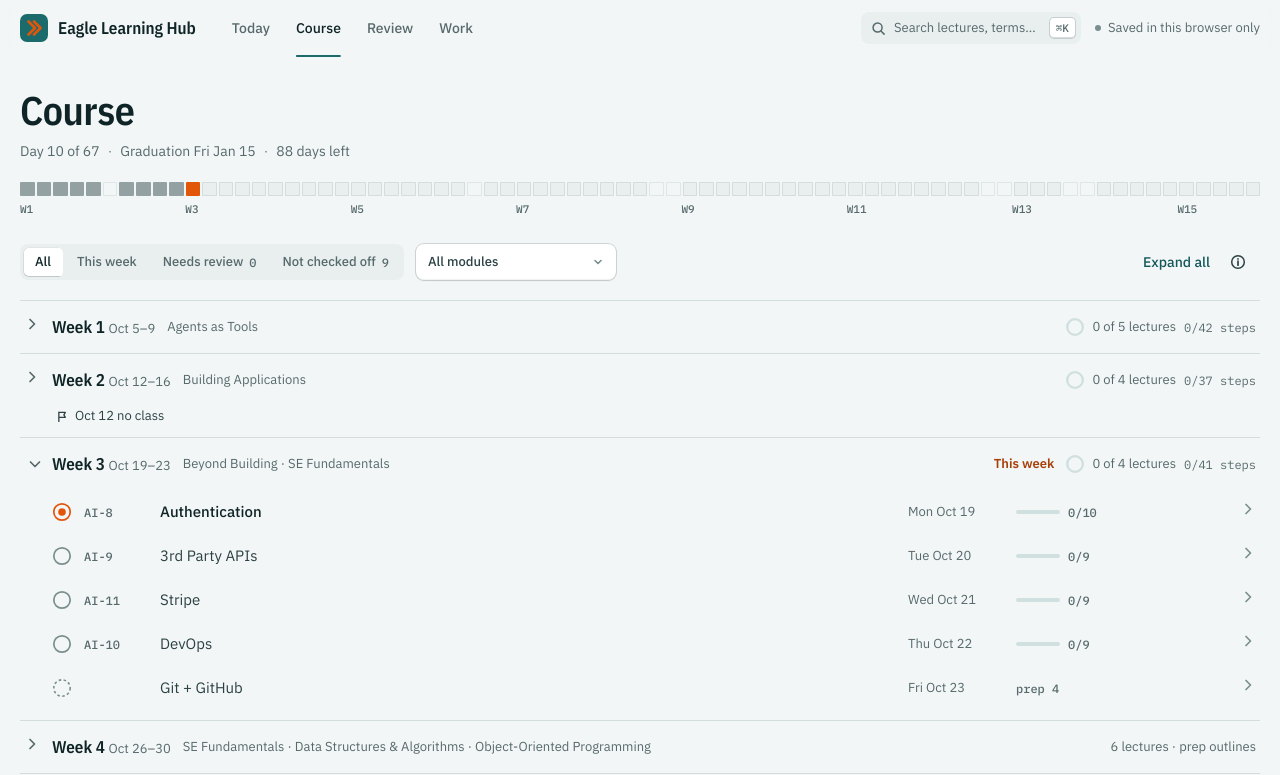
Test: the hub › filters the Course page to this week
Click the button "This week" at (107, 262), box 65,247 -> 149,277
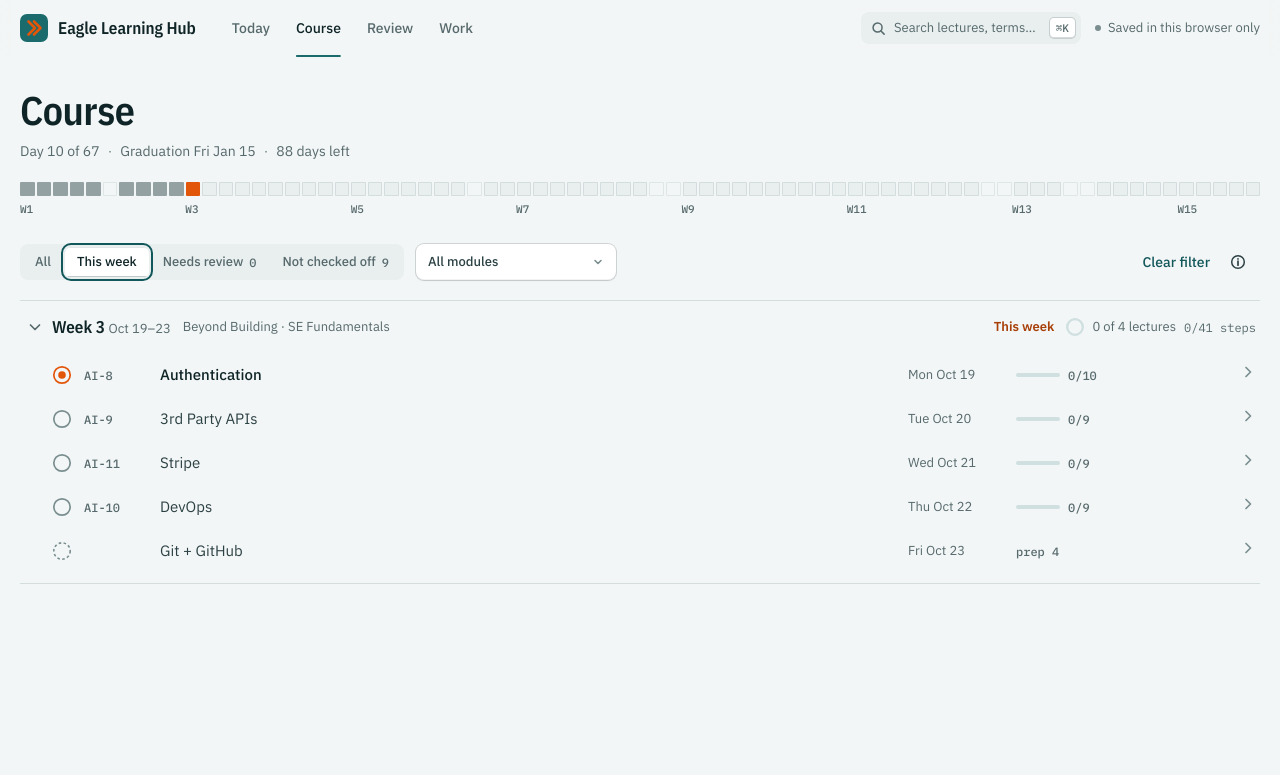
Expected: the button "Week 3" is shown, 20,301 -> 1260,353
Now the button "Week 4" is gone
